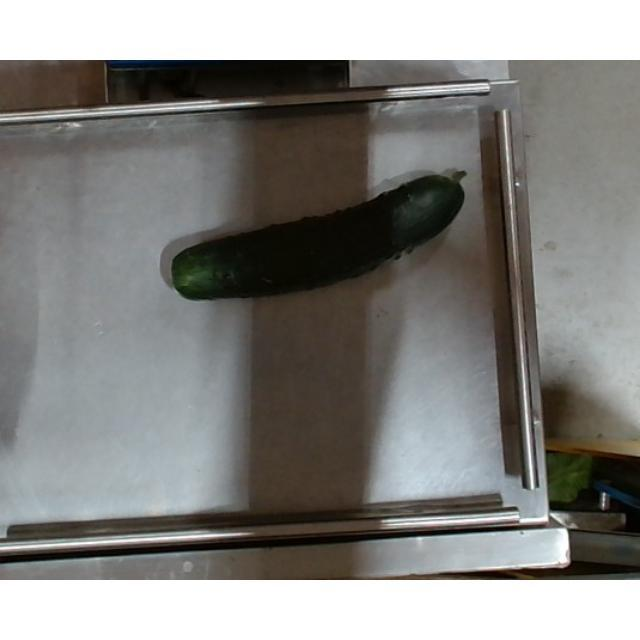cucumber: (164, 170, 468, 304)
